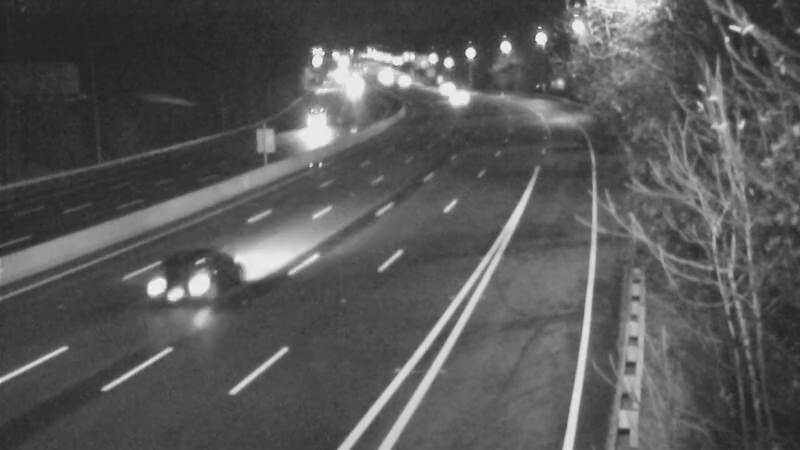vehicle: (124, 257, 204, 337), (378, 54, 428, 104), (421, 62, 471, 112), (429, 72, 479, 122), (285, 102, 335, 152)
